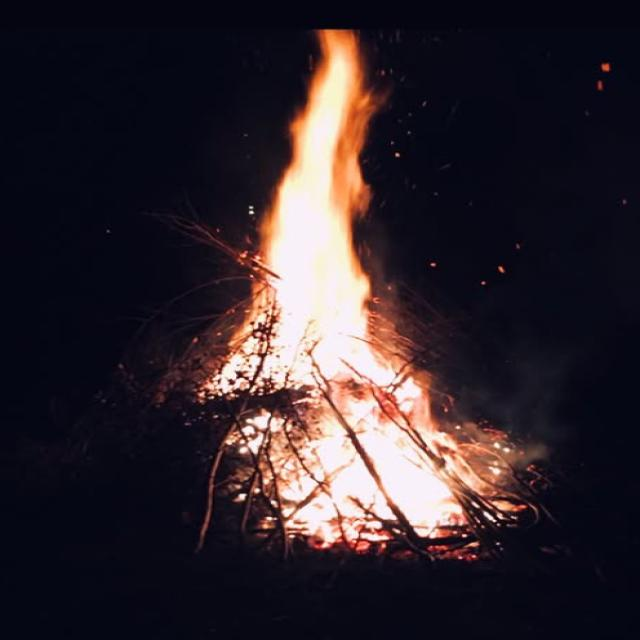fire: (192, 277, 535, 561), (257, 30, 381, 278)
